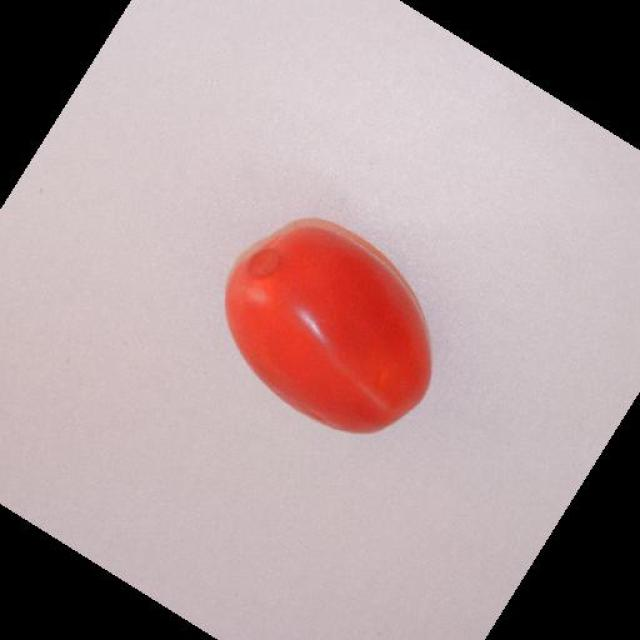Stale_tomato: (211, 212, 456, 440)
